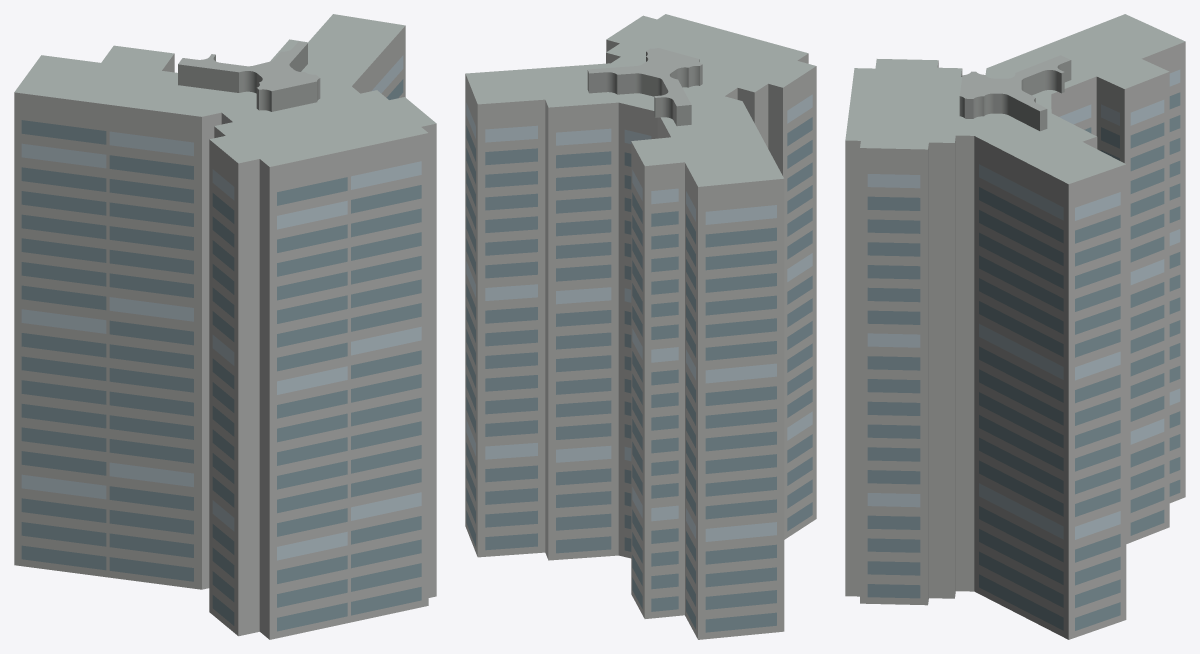
Rendered from fallback-geumho-park-hills-104.glb.
The picture shows the model from 3 angles, left to right: view 1: azimuth 30°, elevation 25°; view 2: azimuth 150°, elevation 25°; view 3: azimuth 270°, elevation 25°; orthographic projection. The views are drawn at different scales.
Parts seen in each view (by area): view 1: fallback-geumho-park-hills-104; view 2: fallback-geumho-park-hills-104; view 3: fallback-geumho-park-hills-104.
Boxes of the visible parts, <box> form: fallback-geumho-park-hills-104: <box>14,14,436,639</box>; fallback-geumho-park-hills-104: <box>465,14,816,639</box>; fallback-geumho-park-hills-104: <box>845,14,1185,639</box>.
Bounding box in the file's own units: 43.76 × 57 × 36.96.
